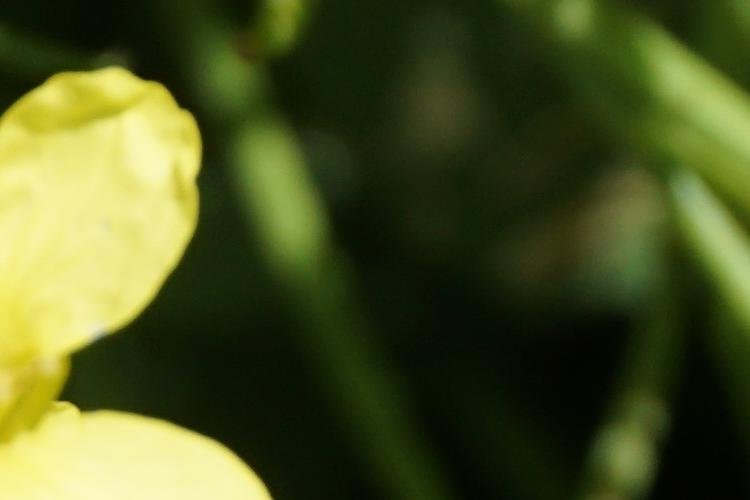yellow: (3, 78, 258, 465)
